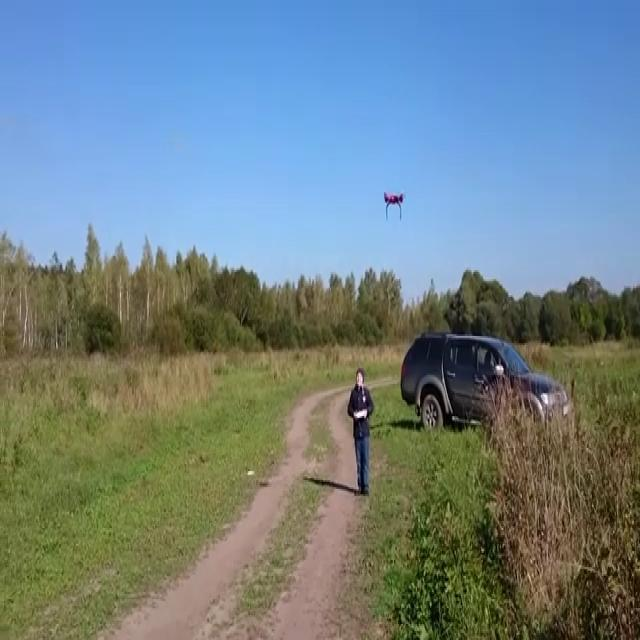Drons: (382, 188, 408, 223)
